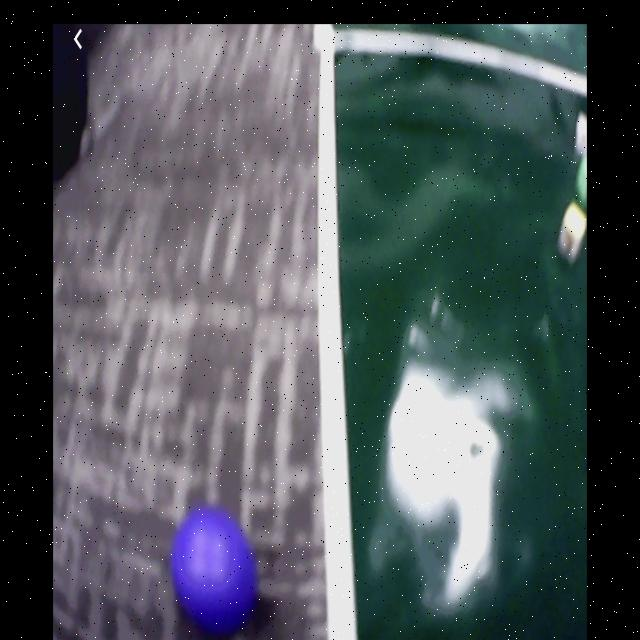ball: (171, 506, 256, 628)
